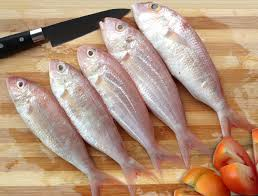Ikan Kerisi: (130, 1, 247, 140), (74, 41, 146, 157), (96, 16, 155, 116), (45, 49, 88, 139), (4, 63, 45, 156)
